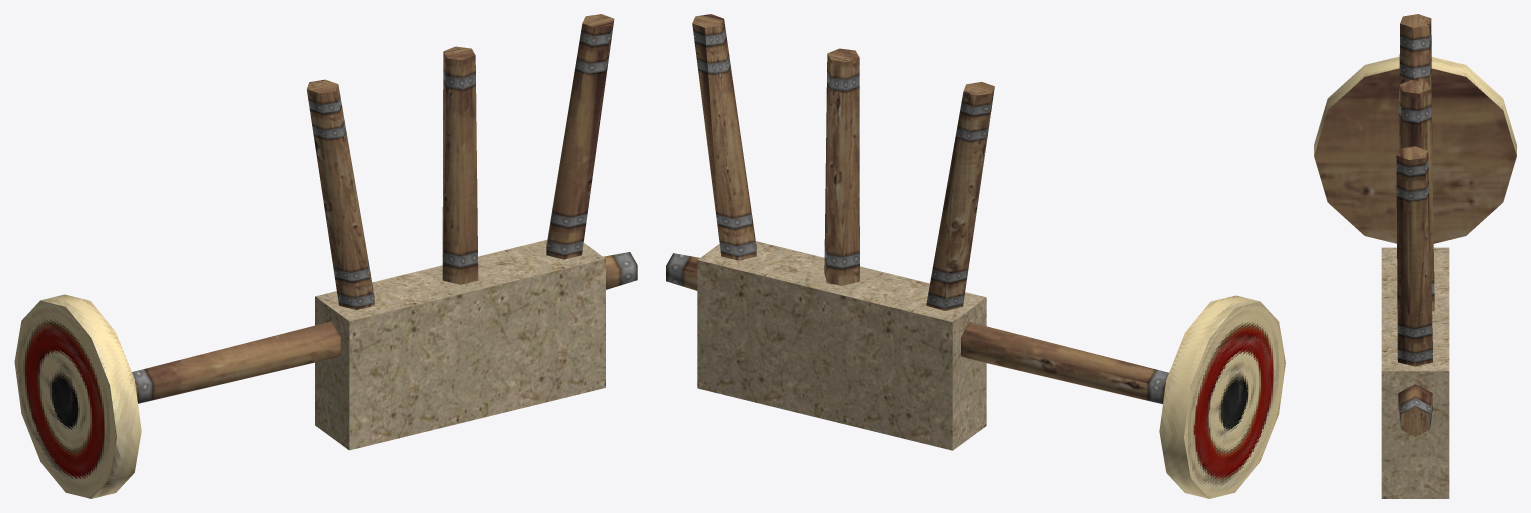
File: P_Modul_01.FBX
3 renders of one model, left to right at view 1: azimuth 30°, elevation 25°; view 2: azimuth 150°, elevation 25°; view 3: azimuth 270°, elevation 25°, orthographic.
Parts seen in each view (by area): view 1: P_Modul_01_Pusher_04, P_Modul_01_Pusher_03, P_Modul_01_Pusher_05, P_Modul_01_Pusher_01, P_Modul_01_Pusher_06, P_Modul_01_Pusher_02; view 2: P_Modul_01_Pusher_04, P_Modul_01_Pusher_03, P_Modul_01_Pusher_05, P_Modul_01_Pusher_01, P_Modul_01_Pusher_06, P_Modul_01_Pusher_02; view 3: P_Modul_01_Pusher_03, P_Modul_01_Pusher_04, P_Modul_01_Pusher_05, P_Modul_01_Pusher_06, P_Modul_01_Pusher_02, P_Modul_01_Pusher_01.
Boxes of the visible parts, bbox=[...] form: P_Modul_01_Pusher_04: bbox=[315, 240, 605, 450]; P_Modul_01_Pusher_03: bbox=[14, 294, 141, 498]; P_Modul_01_Pusher_05: bbox=[546, 14, 614, 259]; P_Modul_01_Pusher_01: bbox=[132, 252, 637, 403]; P_Modul_01_Pusher_06: bbox=[442, 46, 478, 284]; P_Modul_01_Pusher_02: bbox=[306, 79, 374, 309]; P_Modul_01_Pusher_04: bbox=[697, 241, 986, 450]; P_Modul_01_Pusher_03: bbox=[1159, 295, 1285, 498]; P_Modul_01_Pusher_05: bbox=[692, 14, 756, 260]; P_Modul_01_Pusher_01: bbox=[666, 253, 1168, 404]; P_Modul_01_Pusher_06: bbox=[824, 48, 859, 285]; P_Modul_01_Pusher_02: bbox=[926, 82, 994, 310]; P_Modul_01_Pusher_03: bbox=[1314, 56, 1516, 243]; P_Modul_01_Pusher_04: bbox=[1381, 247, 1449, 498]; P_Modul_01_Pusher_05: bbox=[1396, 146, 1432, 366]; P_Modul_01_Pusher_06: bbox=[1398, 80, 1434, 311]; P_Modul_01_Pusher_02: bbox=[1399, 14, 1432, 145]; P_Modul_01_Pusher_01: bbox=[1398, 384, 1432, 436].
Size of the model in its own units: 11.44 by 6.85 by 3.6.
Materials: 3 (3 with a texture image).
